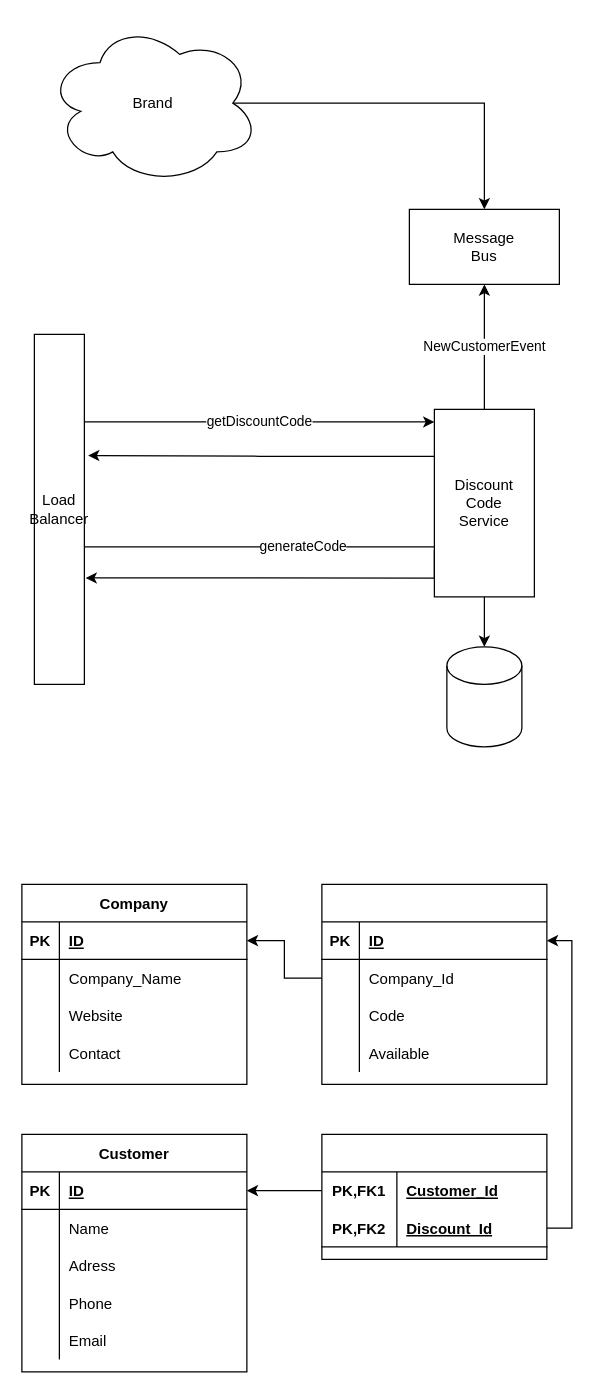
Some shapes in this 604 by 1394 pixel diagram are drawn without their labels. Each missing label, with the box of its shape:
Code DB: (446, 646, 522, 747)
Customer_Discount: (321, 1133, 547, 1259)
Discount: (321, 883, 547, 1084)
